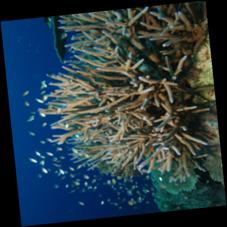bleached_corals: (40, 3, 220, 189)
